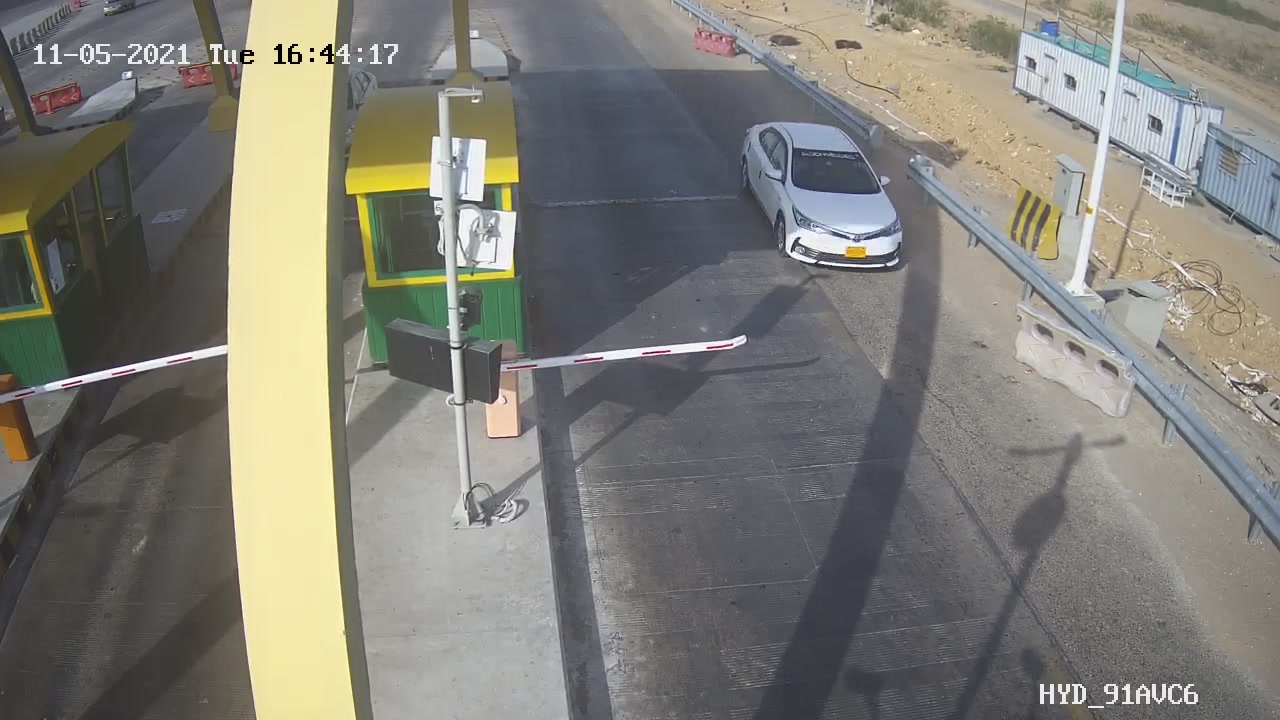F1: (721, 105, 926, 288)
